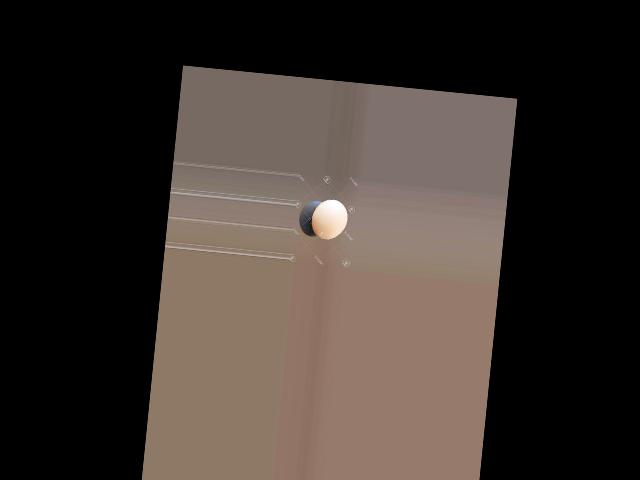egg: (309, 197, 348, 241)
